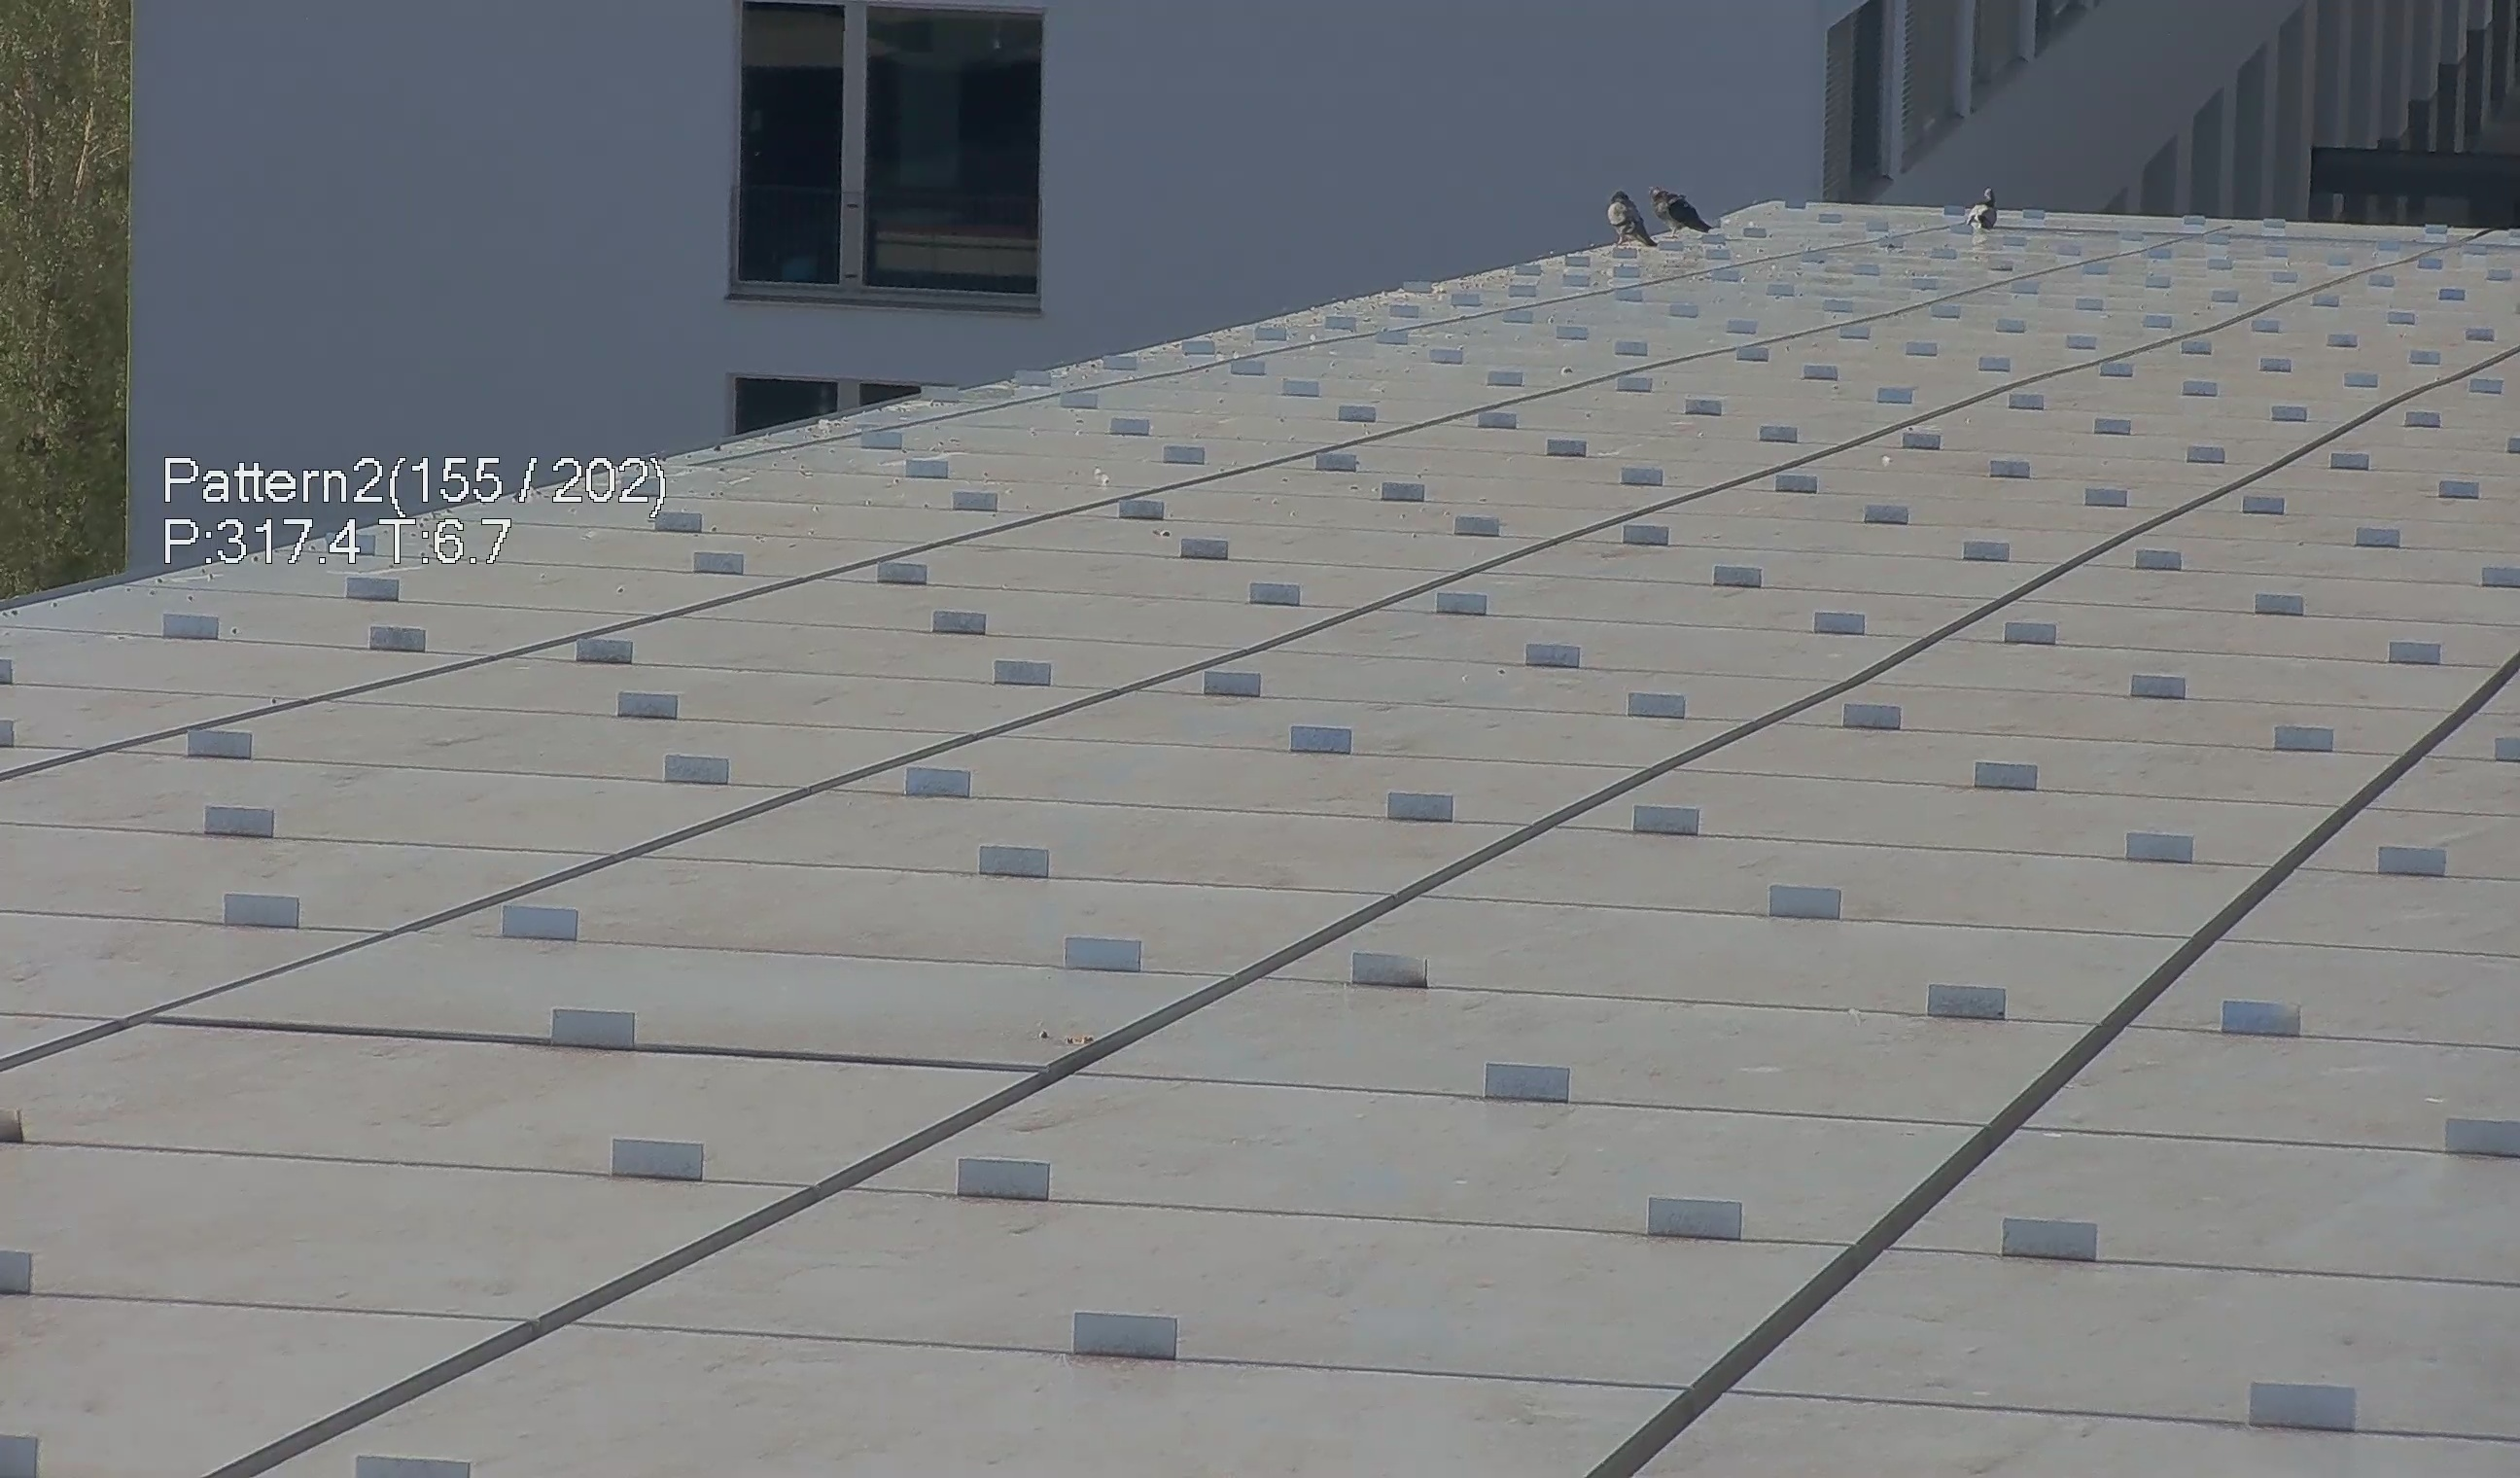Pigeon: (1597, 188, 1671, 264), (1646, 172, 1716, 246), (1963, 188, 2007, 243)
